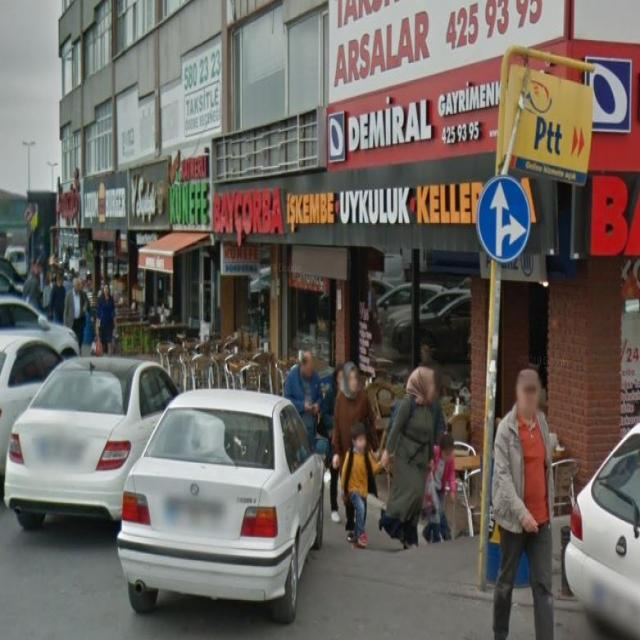ilerisag: (476, 176, 530, 263)
